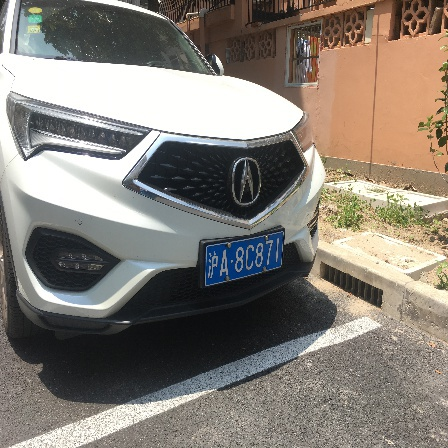plate: (200, 233, 290, 282)
